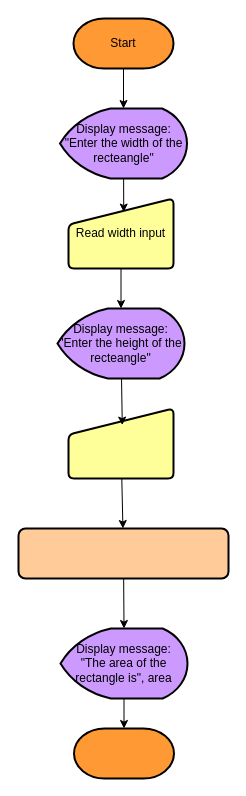
Image size: 246x796. Some labels were removed from this diagram. The shapes that lost their labels are listed below. From the top down, each one's centre as x and y in pixels, then its label:
At (x=120, y=443): "Read height input".
At (x=123, y=553): "Calculate area: area = width * height".
At (x=123, y=753): "End".
